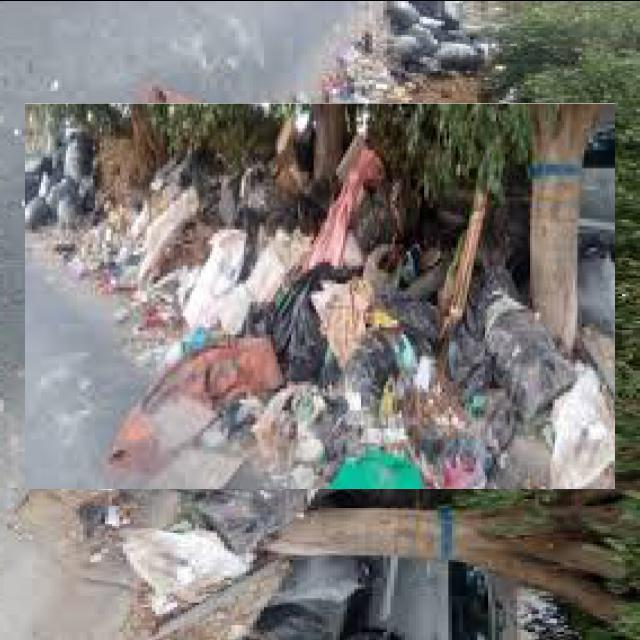Trashbag: (486, 314, 567, 411), (269, 274, 331, 371), (64, 140, 98, 180)
